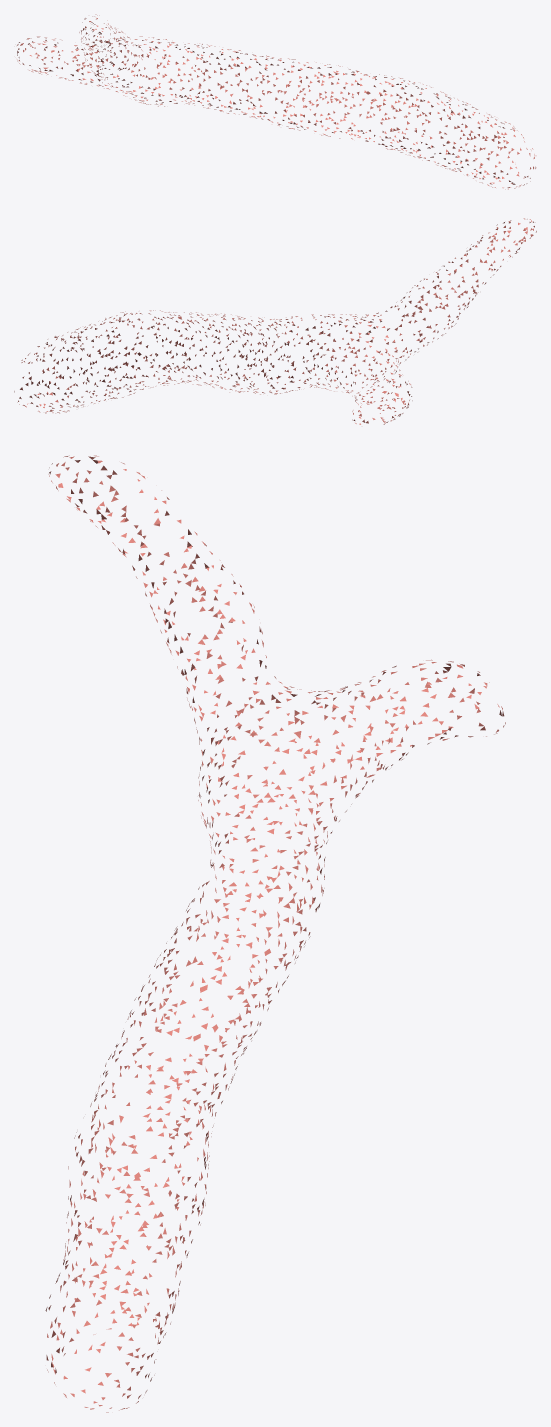
The model's file is morph_001.glb.
3 renders of one model, top to bottom at view 1: azimuth 30°, elevation 25°; view 2: azimuth 150°, elevation 25°; view 3: azimuth 270°, elevation 25°, orthographic. The views are drawn at different scales.
Bounding box in the file's own units: 106 × 60.91 × 47.01.
